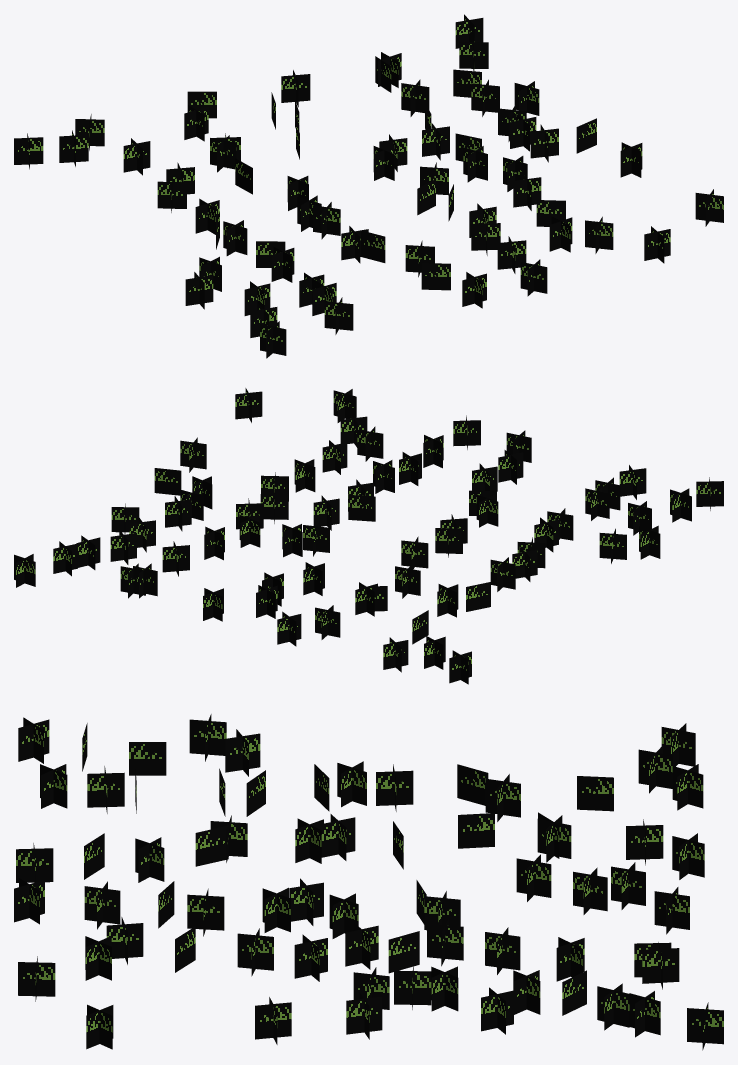
Rendered from GrassPatches.fbx.
3 renders of one model, top to bottom at view 1: azimuth 30°, elevation 25°; view 2: azimuth 150°, elevation 25°; view 3: azimuth 270°, elevation 25°, orthographic. The views are drawn at different scales.
Parts seen in each view (by area): view 1: Grass.001; view 2: Grass.001; view 3: Grass.001.
Part boxes in pixels (left/top/right/bottom): Grass.001: left=14, top=14, right=723, bottom=358; Grass.001: left=14, top=388, right=723, bottom=684; Grass.001: left=14, top=714, right=723, bottom=1050.
Bounding box in the file's own units: 1234 × 64 × 1218.
